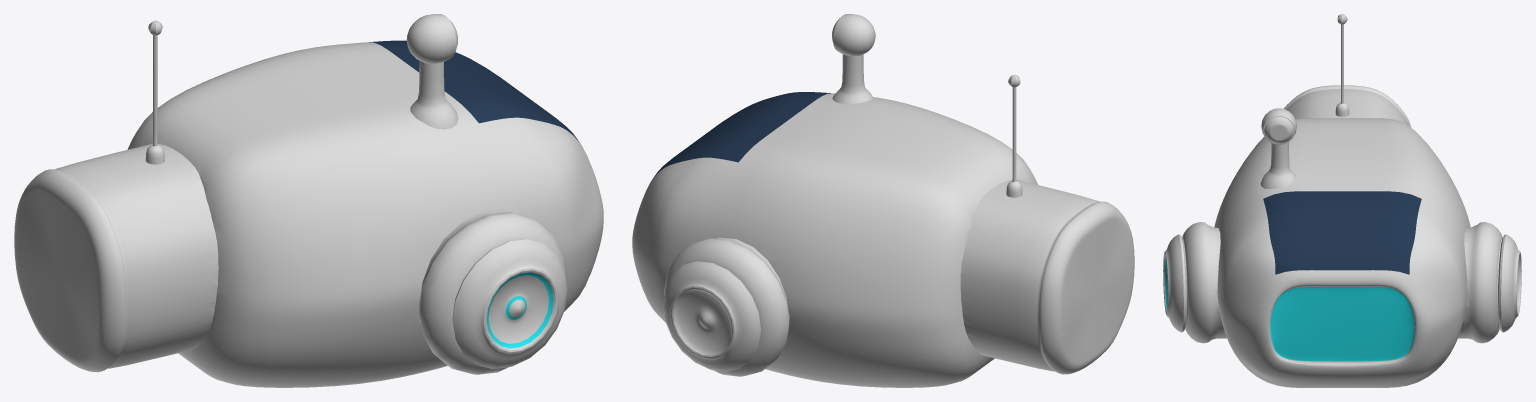
The model's file is rober2.glb.
3 views of the same model, side by side, from view 1: azimuth 30°, elevation 25°; view 2: azimuth 150°, elevation 25°; view 3: azimuth 270°, elevation 25° (orthographic). The views are drawn at different scales.
Visible parts, largest first — view 1: Cube.001; view 2: Cube.001; view 3: Cube.001.
Part boxes in pixels (x1,y1,x2,y2): Cube.001: [14, 14, 603, 387]; Cube.001: [632, 14, 1134, 387]; Cube.001: [1163, 14, 1521, 387].
Size of the model in its own units: 9.15 by 6.51 by 8.11.
